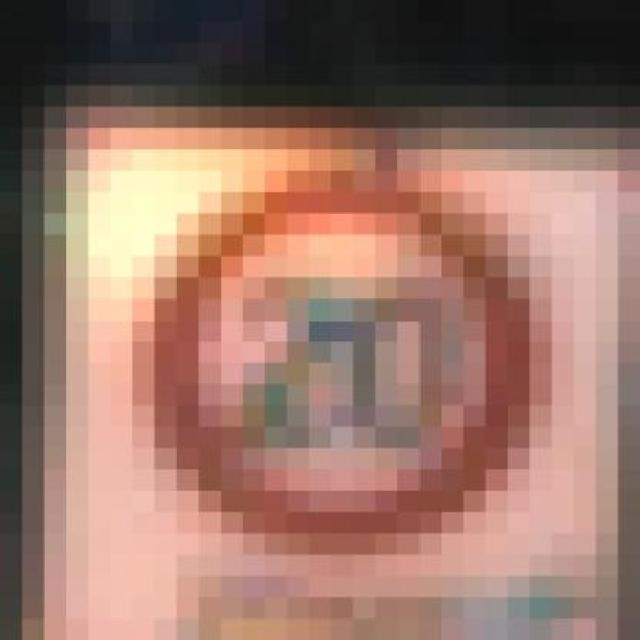forb_speed_over_20: (163, 191, 529, 534)
